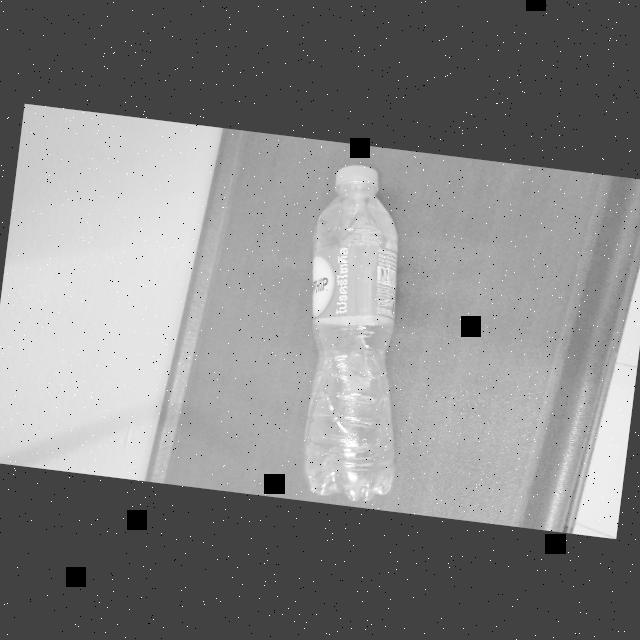plastic_bottle: (278, 148, 440, 506)
plastic_bottle_cap: (332, 158, 386, 198)
